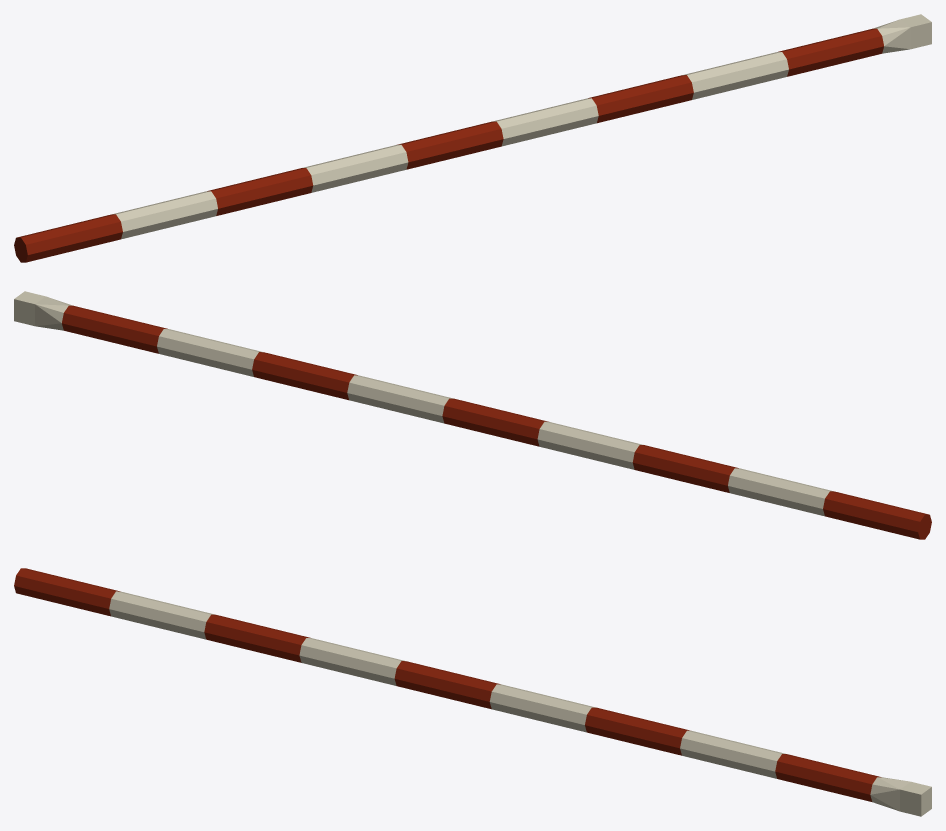
Rendered from LPWarPack_MovingBarrier.fbx.
3 renders of one model, top to bottom at view 1: azimuth 30°, elevation 25°; view 2: azimuth 150°, elevation 25°; view 3: azimuth 330°, elevation 25°, orthographic.
Visible parts, largest first — view 1: MovingBarrier; view 2: MovingBarrier; view 3: MovingBarrier.
Part boxes in pixels (x1,y1,x2,y2): MovingBarrier: (14,14,931,262); MovingBarrier: (14,291,931,539); MovingBarrier: (14,568,931,816).
Bounding box in the file's own units: 449 × 11.89 × 11.89.
